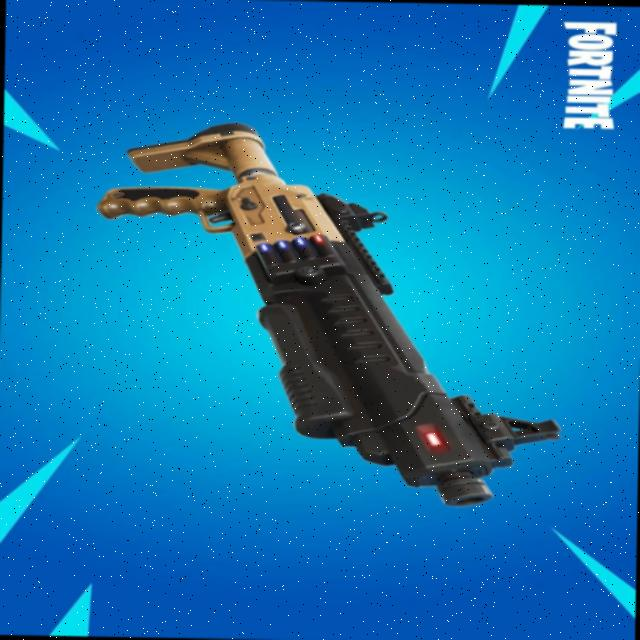Shotgun: (91, 103, 564, 519)
